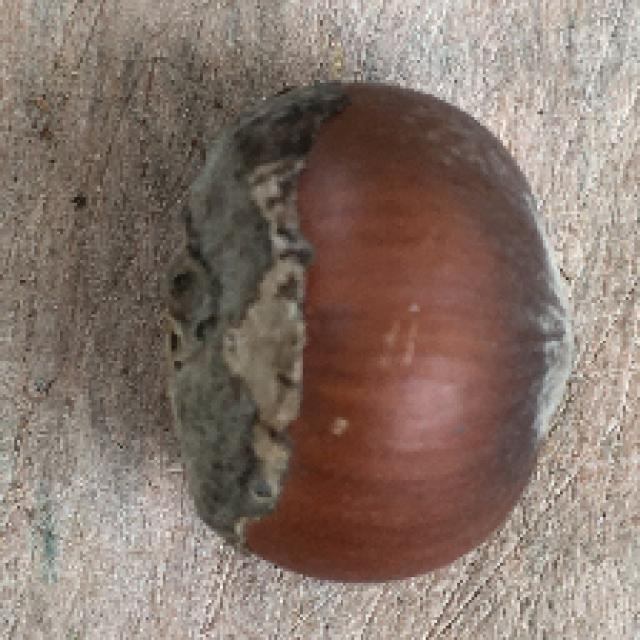damagedHazelnut: (161, 73, 579, 582)
